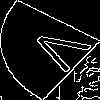V: (25, 25, 100, 79)
